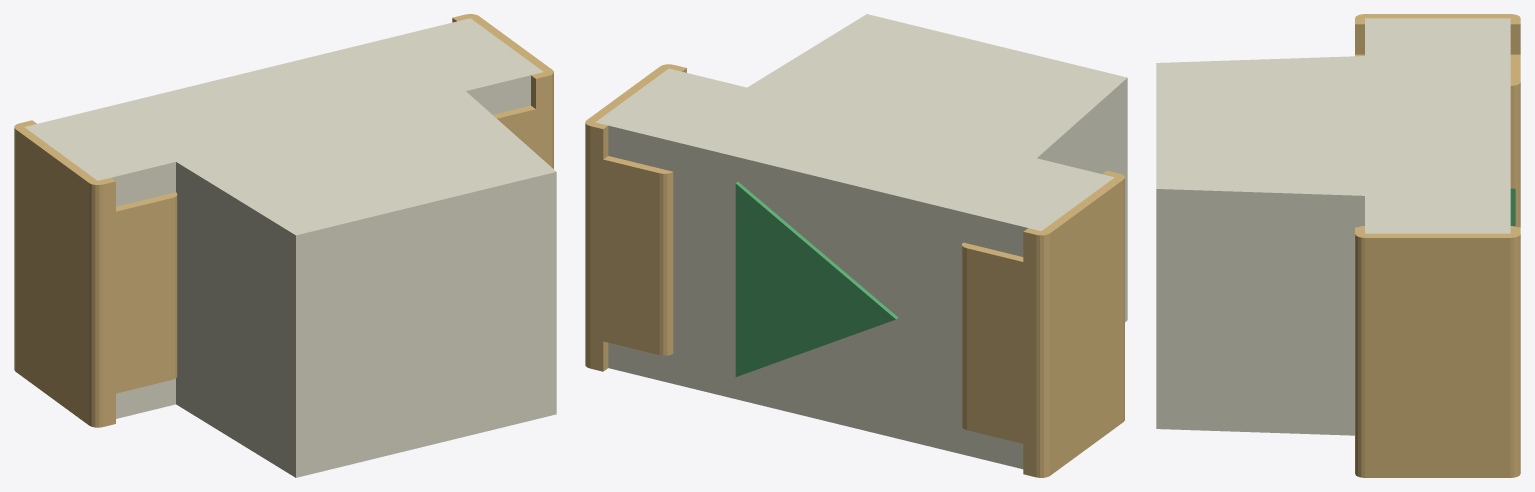
Rendered from LED_0603_1608Metric.glb.
The picture shows the model from 3 angles, left to right: view 1: azimuth 30°, elevation 25°; view 2: azimuth 150°, elevation 25°; view 3: azimuth 270°, elevation 25°; orthographic projection.
Parts seen in each view (by area): view 1: LED_0603_1608Metric_5d341d, LED_0603_1608Metric_ce9122; view 2: LED_0603_1608Metric_5d341d, LED_0603_1608Metric_ce9122, LED_0603_1608Metric_6ebbd7; view 3: LED_0603_1608Metric_5d341d, LED_0603_1608Metric_ce9122.
Boxes of the visible parts, bbox=[...] form: LED_0603_1608Metric_5d341d: bbox=[24, 18, 556, 477]; LED_0603_1608Metric_ce9122: bbox=[14, 14, 553, 427]; LED_0603_1608Metric_5d341d: bbox=[595, 14, 1127, 469]; LED_0603_1608Metric_ce9122: bbox=[585, 64, 1124, 477]; LED_0603_1608Metric_6ebbd7: bbox=[735, 182, 898, 376]; LED_0603_1608Metric_5d341d: bbox=[1156, 18, 1510, 435]; LED_0603_1608Metric_ce9122: bbox=[1355, 14, 1520, 477].
Bounding box in the file's own units: 0.0016 × 0.0008 × 0.0011.
